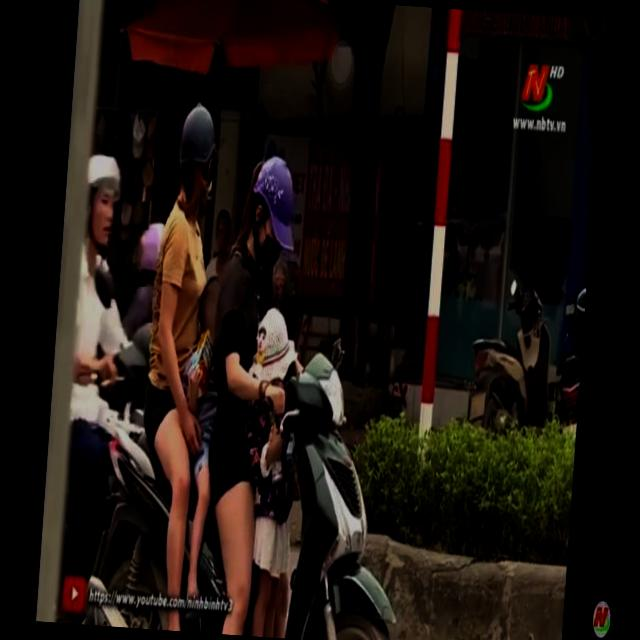motorcycle: (80, 334, 414, 640)
person: (178, 147, 320, 630), (127, 89, 228, 624), (228, 300, 324, 640)
rider_region: (109, 101, 440, 640)
